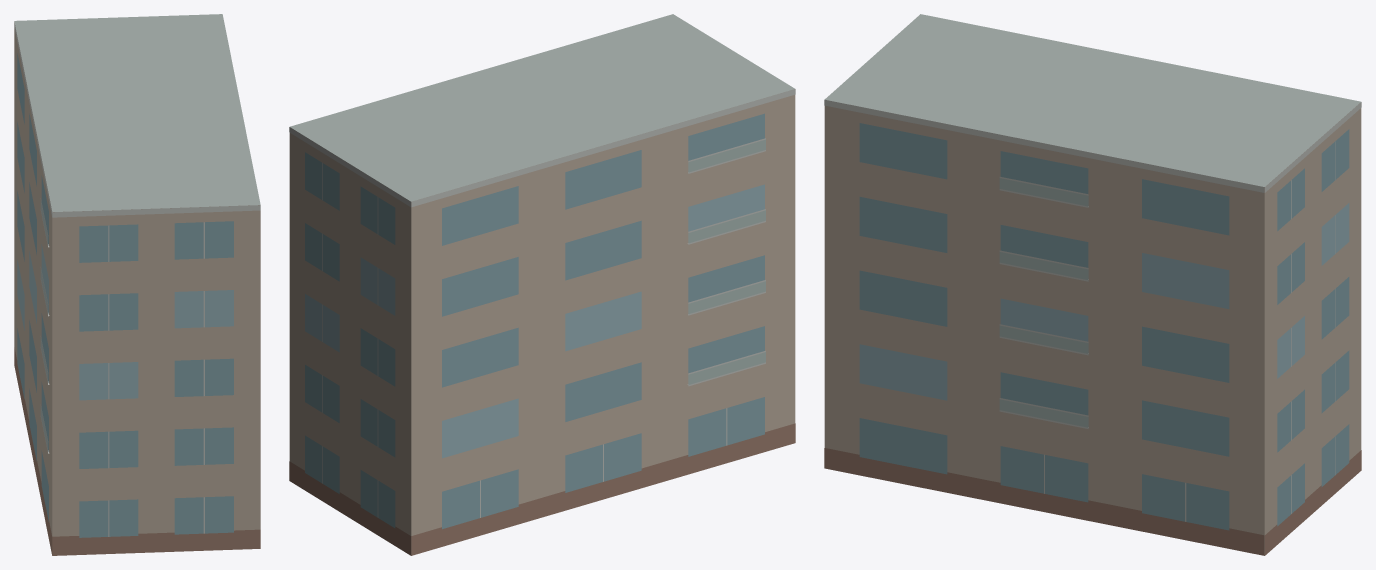
Rendered from survey-upis-32537726.glb.
The picture shows the model from 3 angles, left to right: view 1: azimuth 30°, elevation 25°; view 2: azimuth 150°, elevation 25°; view 3: azimuth 270°, elevation 25°; orthographic projection. The views are drawn at different scales.
Visible parts, largest first — view 1: survey-upis-32537726.tmp; view 2: survey-upis-32537726.tmp; view 3: survey-upis-32537726.tmp.
Part boxes in pixels (x1,y1,x2,y2): survey-upis-32537726.tmp: [14, 14, 260, 555]; survey-upis-32537726.tmp: [289, 14, 795, 555]; survey-upis-32537726.tmp: [824, 14, 1361, 555].
Size of the model in its own units: 15.37 by 15.25 by 20.14.
